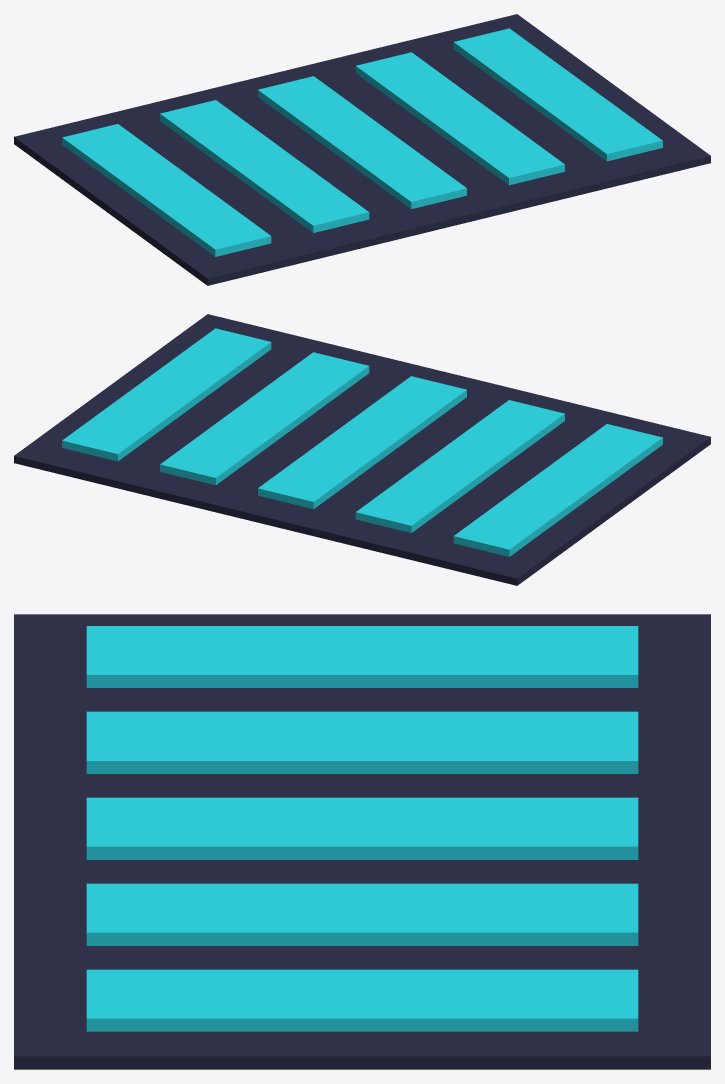
File: env_r8_crosswalk_neon.glb
The picture shows the model from 3 angles, top to bottom: view 1: azimuth 30°, elevation 25°; view 2: azimuth 150°, elevation 25°; view 3: azimuth 270°, elevation 25°; orthographic projection. The views are drawn at different scales.
Parts seen in each view (by area): view 1: env_r8_crosswalk_neon; view 2: env_r8_crosswalk_neon; view 3: env_r8_crosswalk_neon.
Boxes of the visible parts, x1,y1,x2,y2 form: env_r8_crosswalk_neon: [14, 14, 710, 285]; env_r8_crosswalk_neon: [14, 314, 710, 585]; env_r8_crosswalk_neon: [14, 614, 710, 1069].
Bounding box in the file's own units: 3.6 × 0.1 × 2.4.
Materials: 1 (1 with a texture image).
